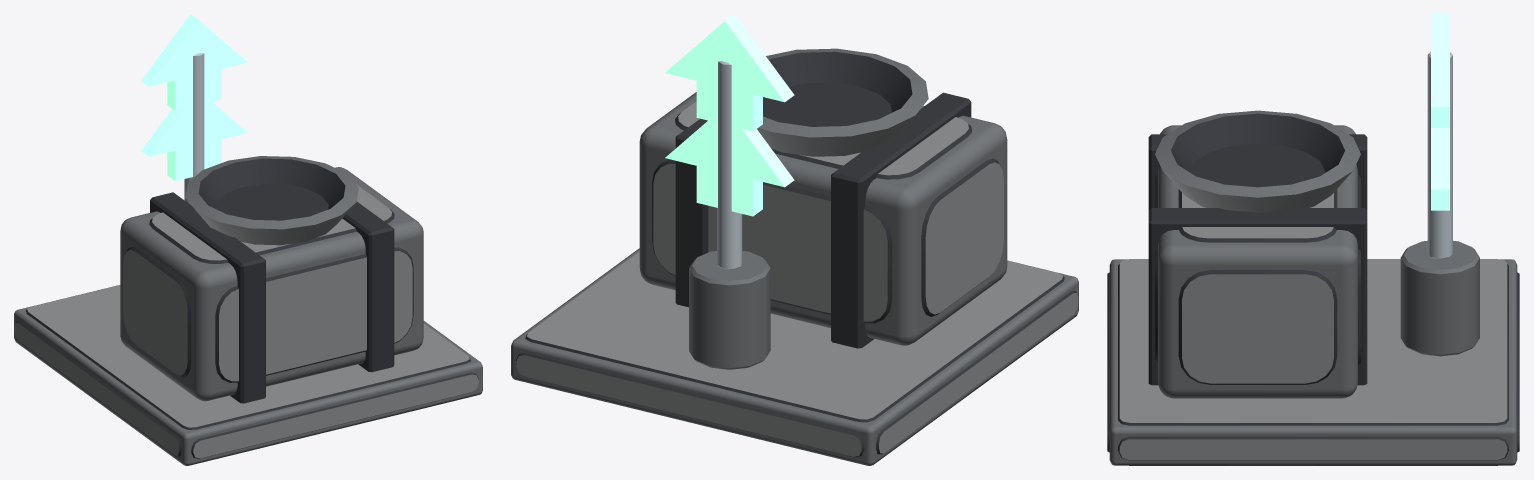
The model's file is R4X_CargoUplink.glb.
3 renders of one model, left to right at view 1: azimuth 30°, elevation 25°; view 2: azimuth 150°, elevation 25°; view 3: azimuth 270°, elevation 25°, orthographic. The views are drawn at different scales.
Visible parts, largest first — view 1: R4X_CargoUplink_Body; view 2: R4X_CargoUplink_Body; view 3: R4X_CargoUplink_Body.
Boxes of the visible parts, left/top/right/bottom form: R4X_CargoUplink_Body: left=14, top=14, right=482, bottom=465; R4X_CargoUplink_Body: left=511, top=14, right=1078, bottom=465; R4X_CargoUplink_Body: left=1107, top=14, right=1519, bottom=465.
Size of the model in its own units: 0.52 by 0.515 by 0.52.
